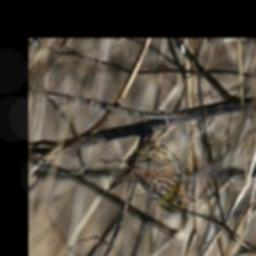Sparrow: (104, 118, 198, 216)
